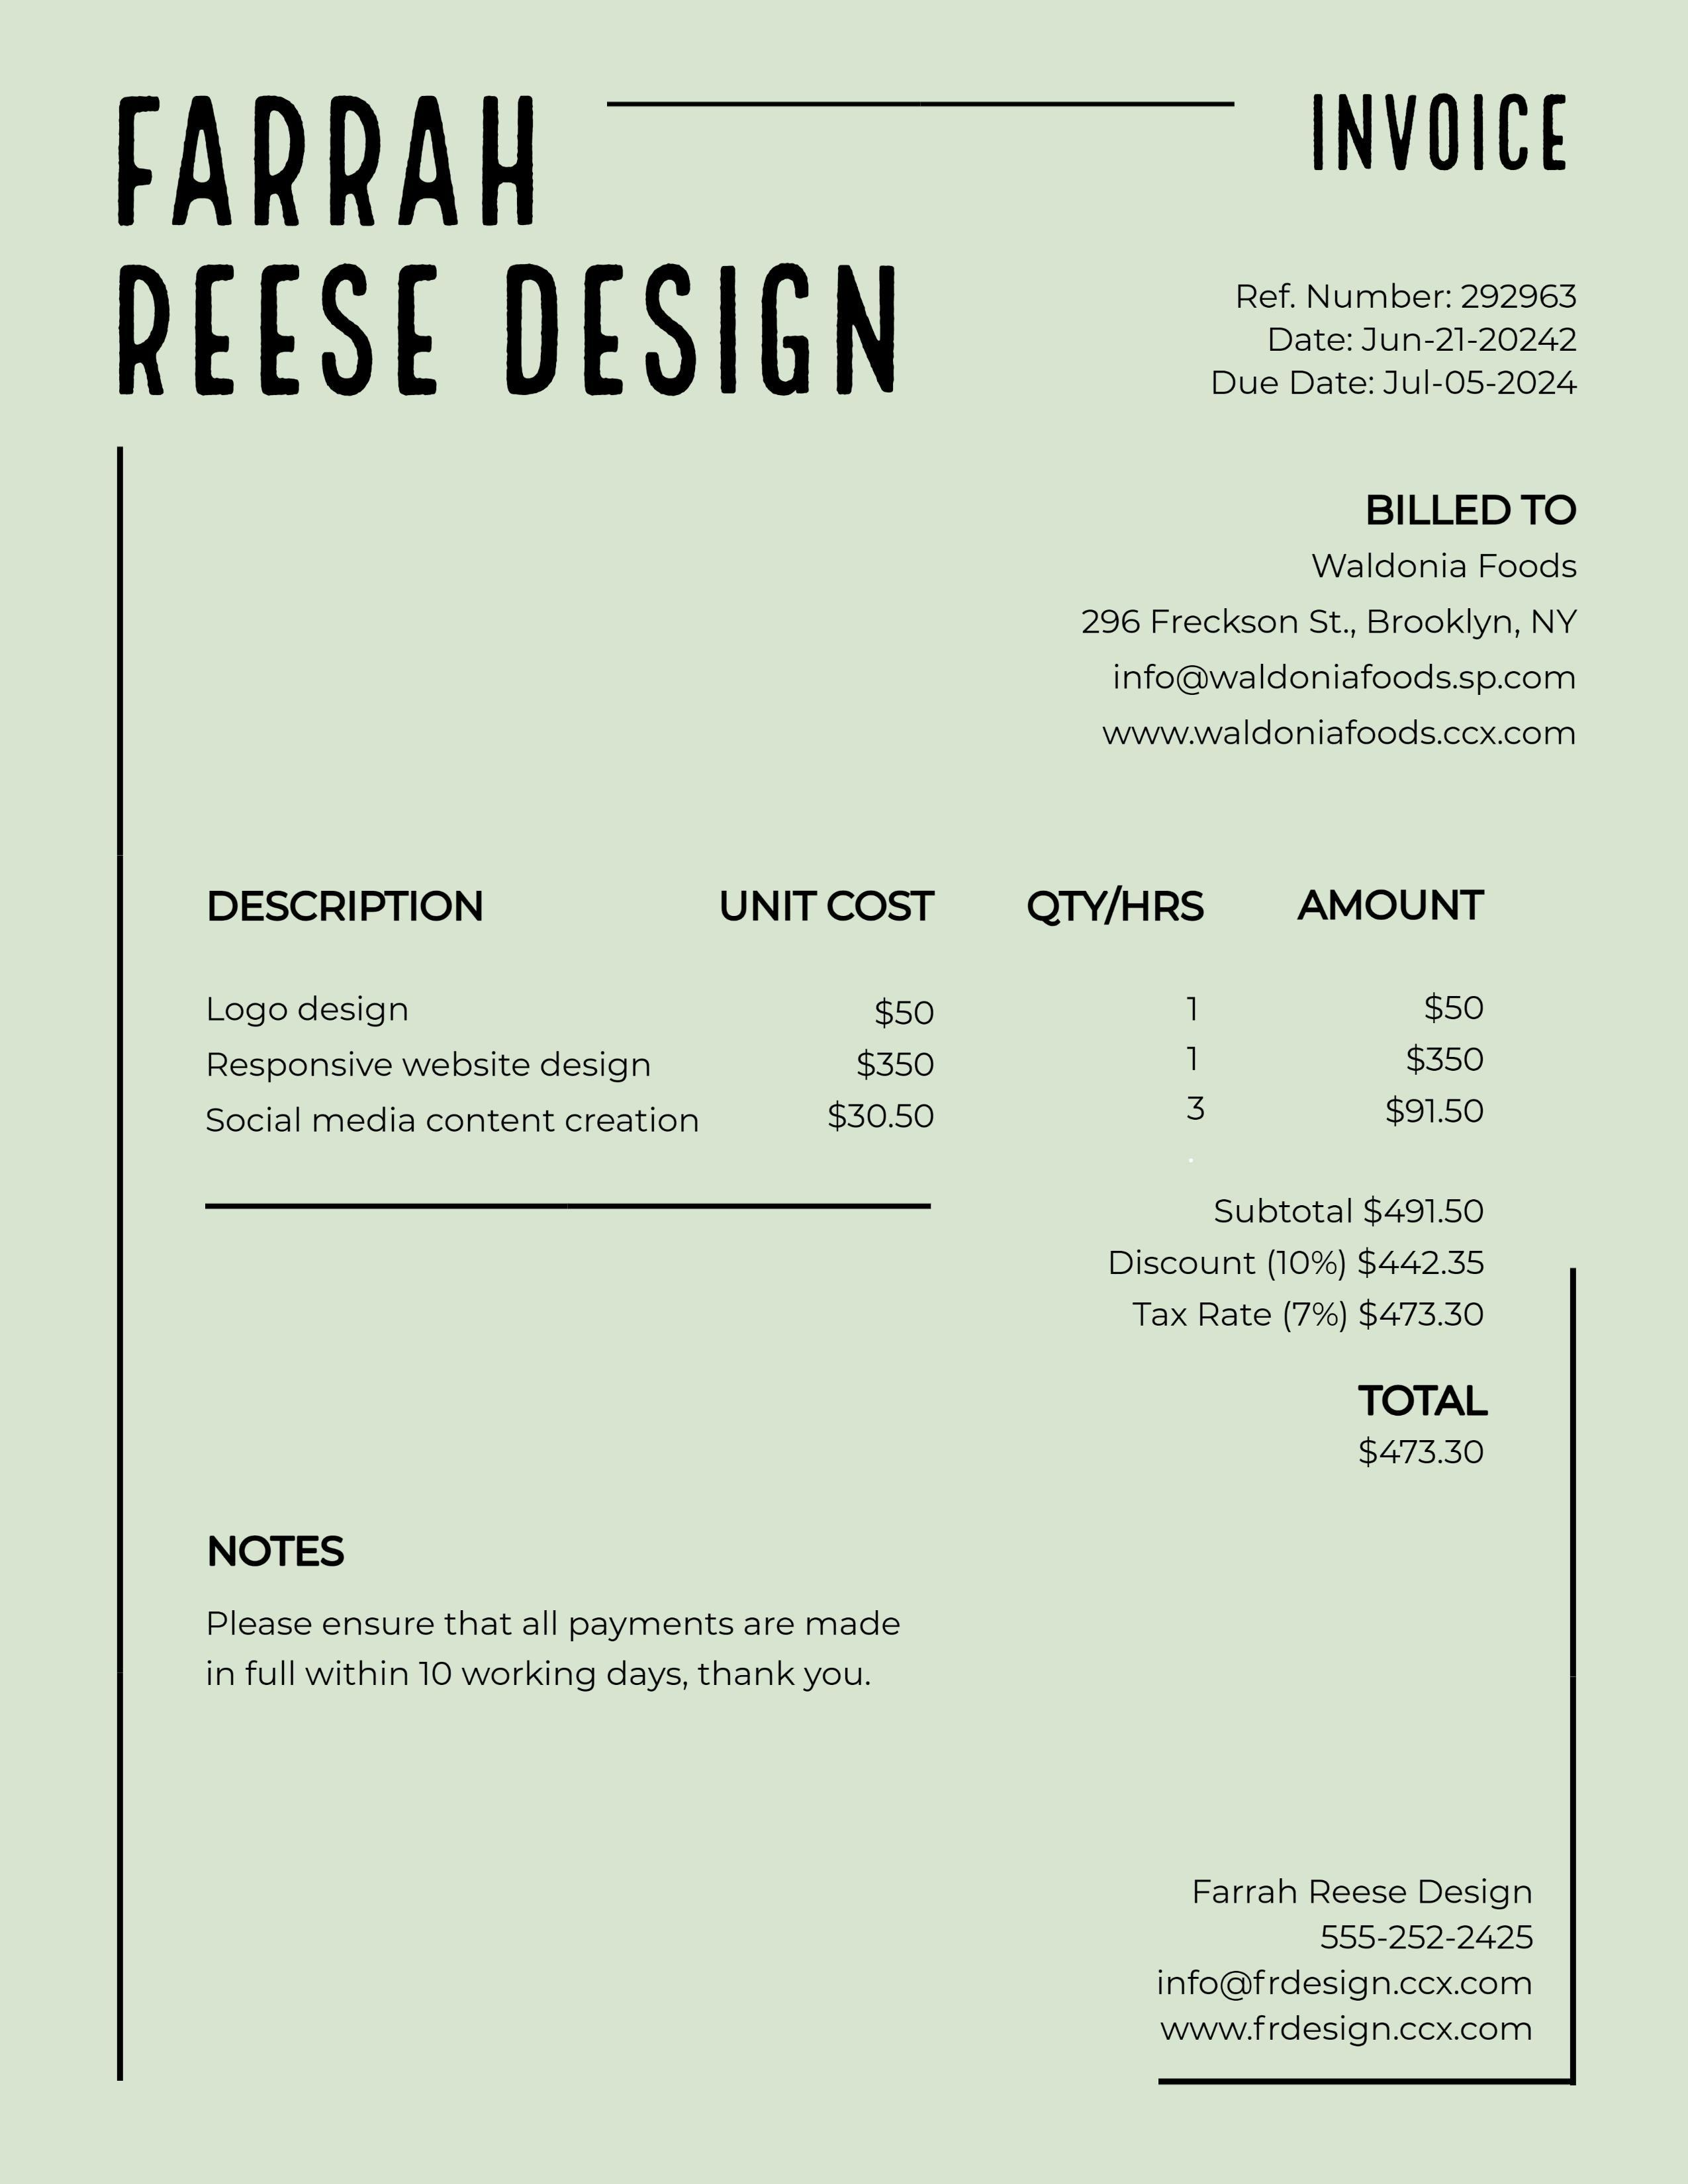ROI: (175, 874, 1542, 1155), (1066, 457, 1615, 794), (1062, 1171, 1519, 1489), (199, 1588, 923, 1721), (1132, 1846, 1559, 2065), (1188, 258, 1605, 417)
